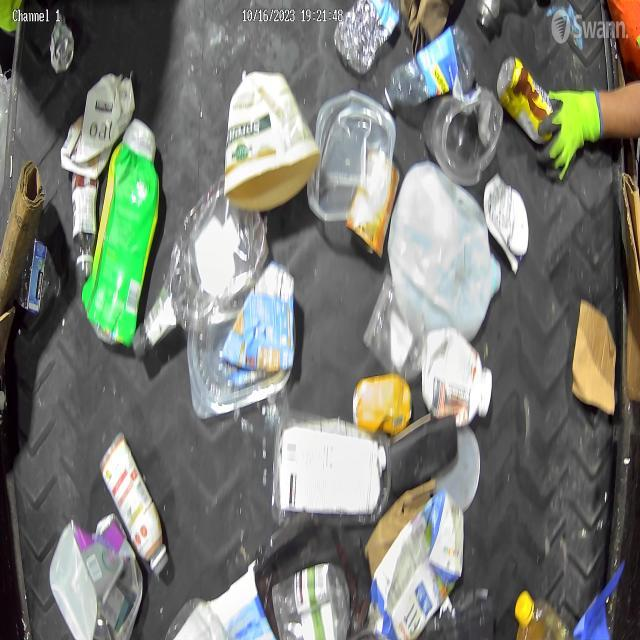can: (344, 158, 401, 261)
milk_jug: (385, 159, 502, 345)
plastic_bottle: (131, 176, 271, 364), (380, 23, 476, 112), (332, 0, 400, 77), (16, 238, 63, 316)
